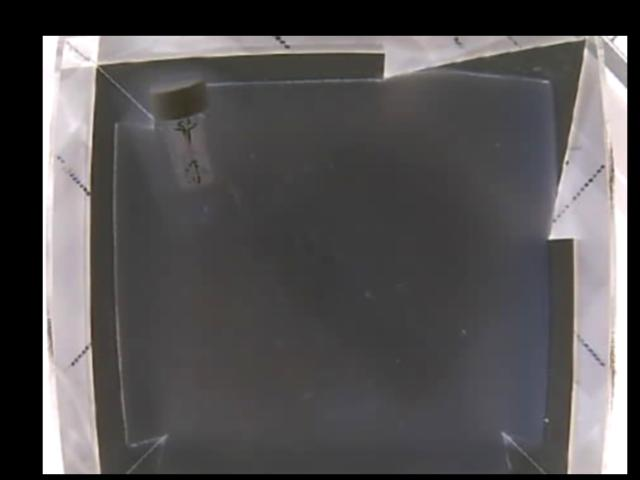Bottle: (150, 79, 216, 192)
